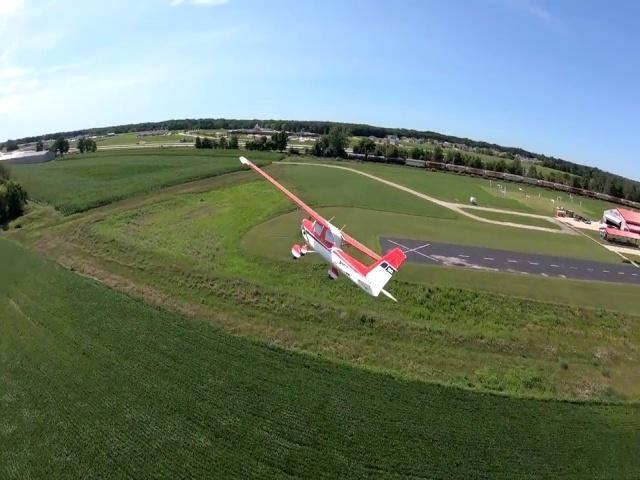Airplane: (239, 156, 407, 302)
